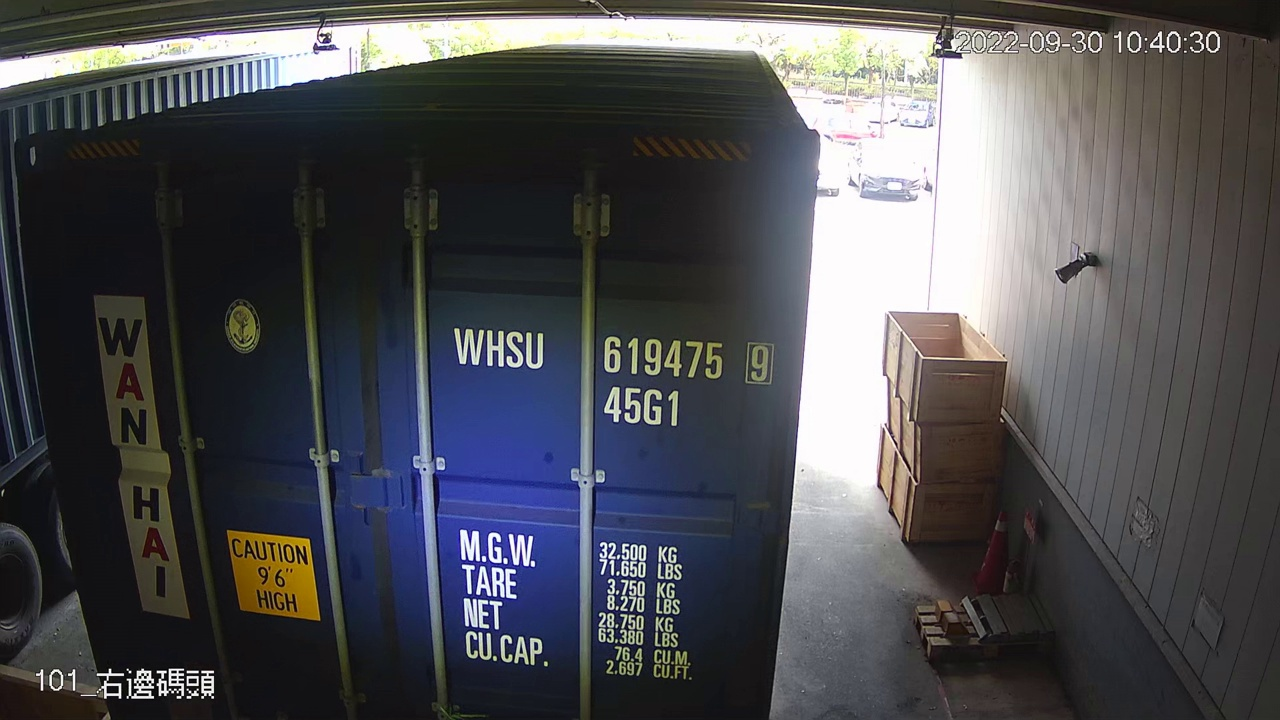container: (442, 314, 785, 437)
